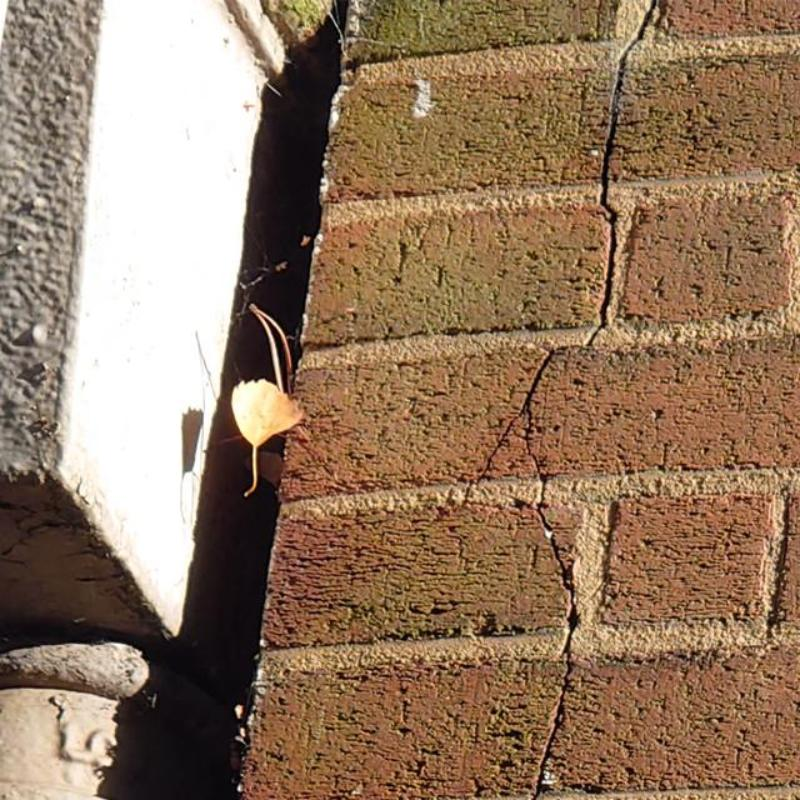pothole: (534, 477, 579, 799), (487, 350, 552, 474), (587, 114, 619, 346), (612, 0, 657, 103), (510, 497, 530, 511)
